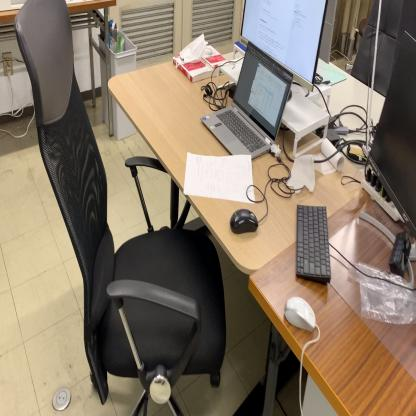chair: (15, 4, 228, 416)
